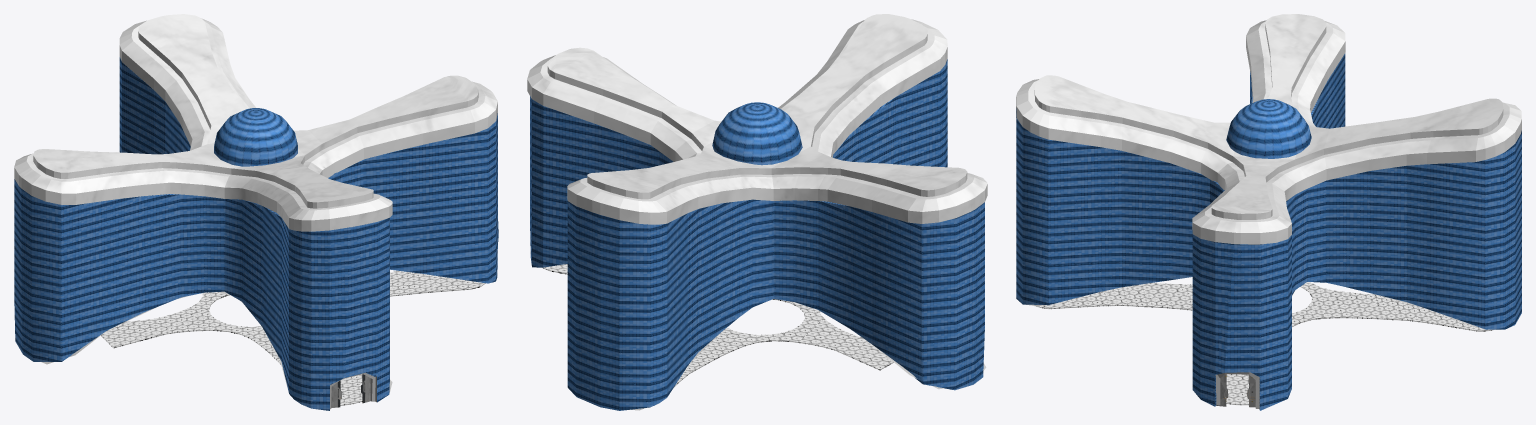
Rendered from biology_build.fbx.
3 renders of one model, left to right at view 1: azimuth 30°, elevation 25°; view 2: azimuth 150°, elevation 25°; view 3: azimuth 270°, elevation 25°, orthographic. The views are drawn at different scales.
Parts seen in each view (by area): view 1: biology_build; view 2: biology_build; view 3: biology_build.
Boxes of the visible parts, <box> form: biology_build: <box>14,14,498,410</box>; biology_build: <box>527,14,987,410</box>; biology_build: <box>1016,14,1521,410</box>.
Bounding box in the file's own units: 59.69 × 26.48 × 59.05.
